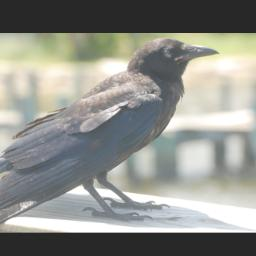Crow: (0, 38, 221, 233)
